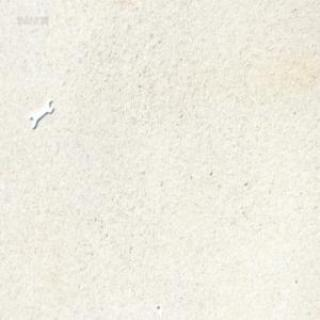Wrenchtrack_idkeyframe: (28, 95, 53, 128)
